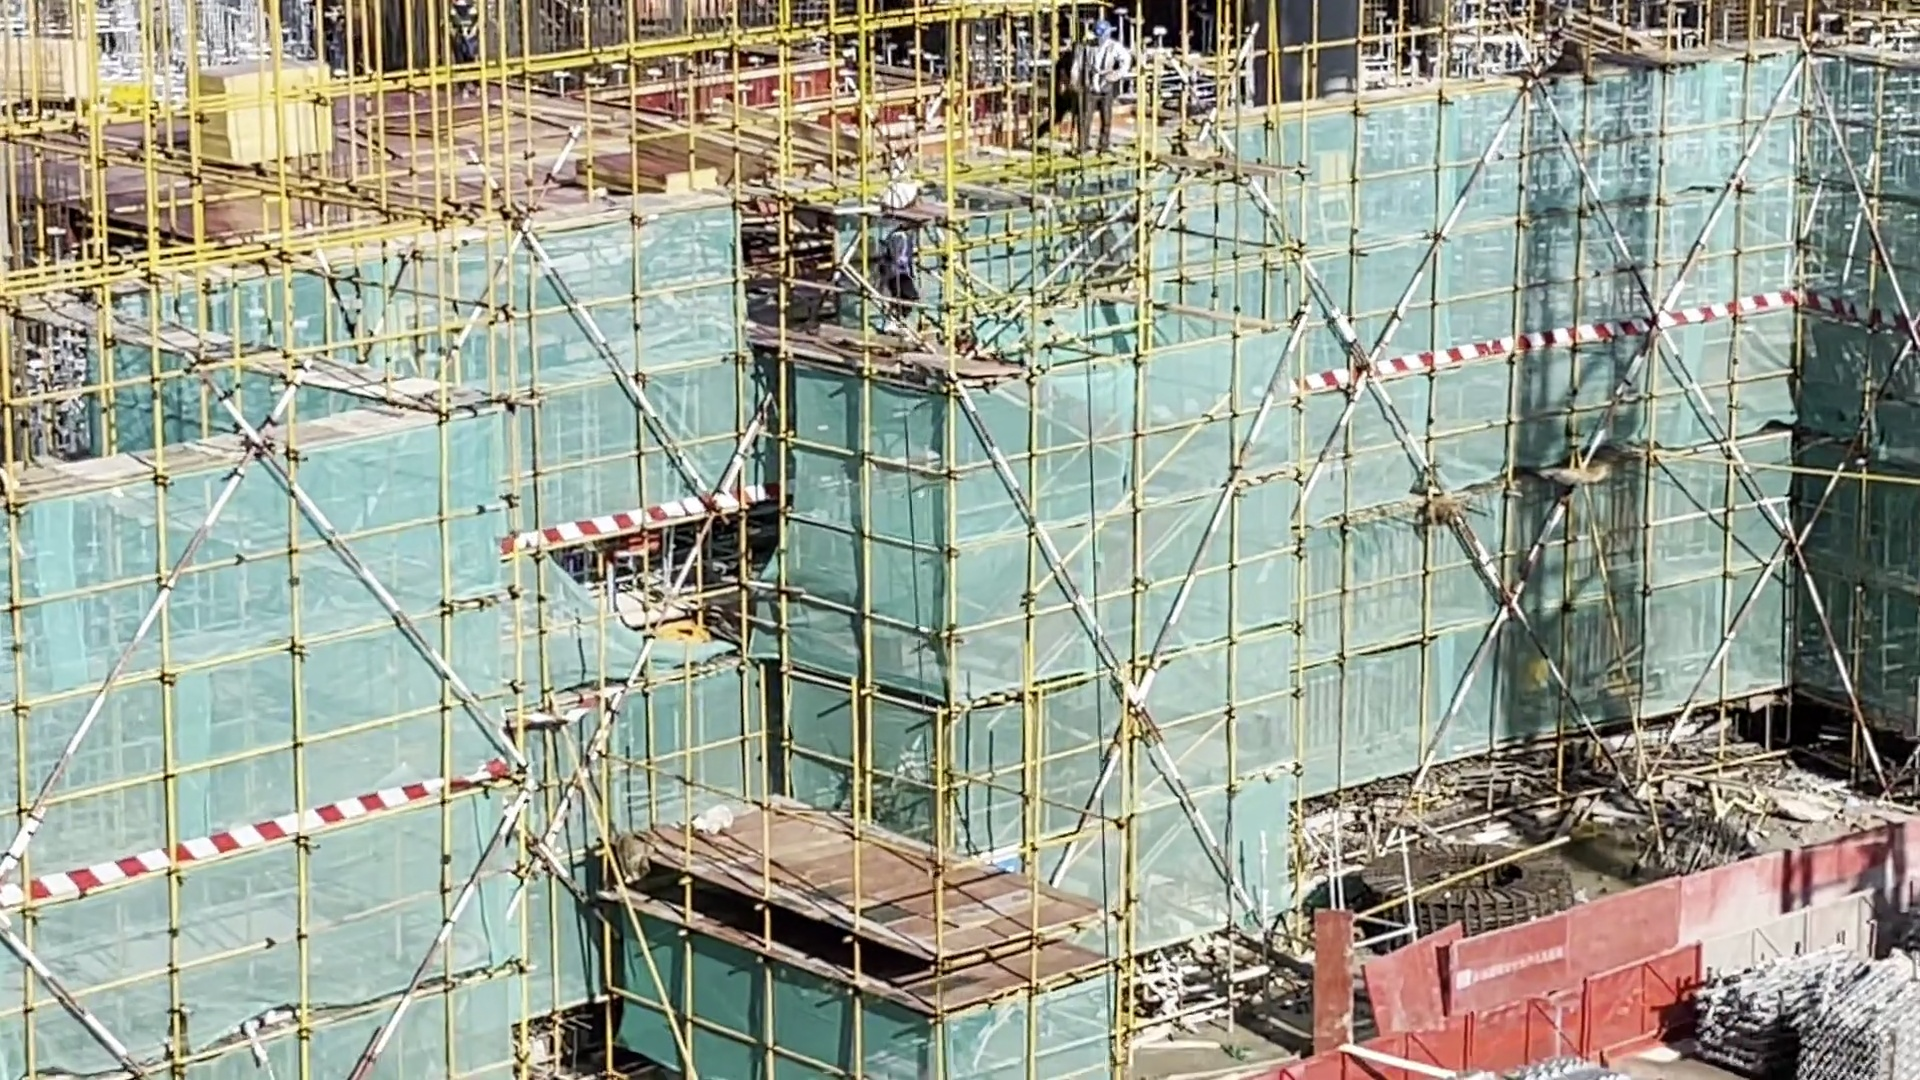fence: (1269, 877, 1920, 1080)
helmet: (1088, 12, 1112, 46)
person: (1072, 9, 1129, 159), (876, 215, 932, 337)
scaffold: (1695, 947, 1920, 1080)
vest: (1082, 45, 1117, 92)
